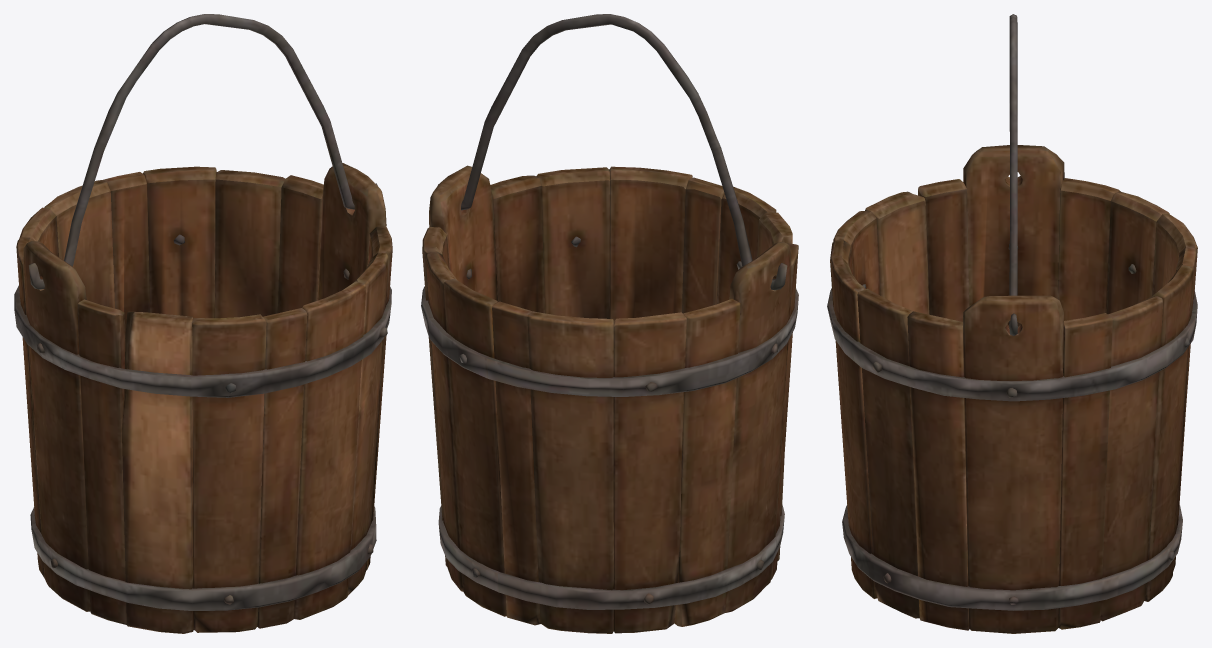
Rendered from wooden_bucket_01.glb.
3 renders of one model, left to right at view 1: azimuth 30°, elevation 25°; view 2: azimuth 150°, elevation 25°; view 3: azimuth 270°, elevation 25°, orthographic.
Visible parts, largest first — view 1: wooden_bucket, wooden_bucket_01_handle; view 2: wooden_bucket, wooden_bucket_01_handle; view 3: wooden_bucket, wooden_bucket_01_handle.
Boxes of the visible parts, left/top/right/bottom form: wooden_bucket: left=14, top=163, right=392, bottom=633; wooden_bucket_01_handle: left=28, top=14, right=377, bottom=289; wooden_bucket: left=421, top=165, right=798, bottom=633; wooden_bucket_01_handle: left=438, top=14, right=787, bottom=290; wooden_bucket: left=827, top=145, right=1197, bottom=633; wooden_bucket_01_handle: left=1009, top=14, right=1017, bottom=335.
Bounding box in the file's own units: 0.3663 × 0.5499 × 0.3419.
1 material, 1 textured.
